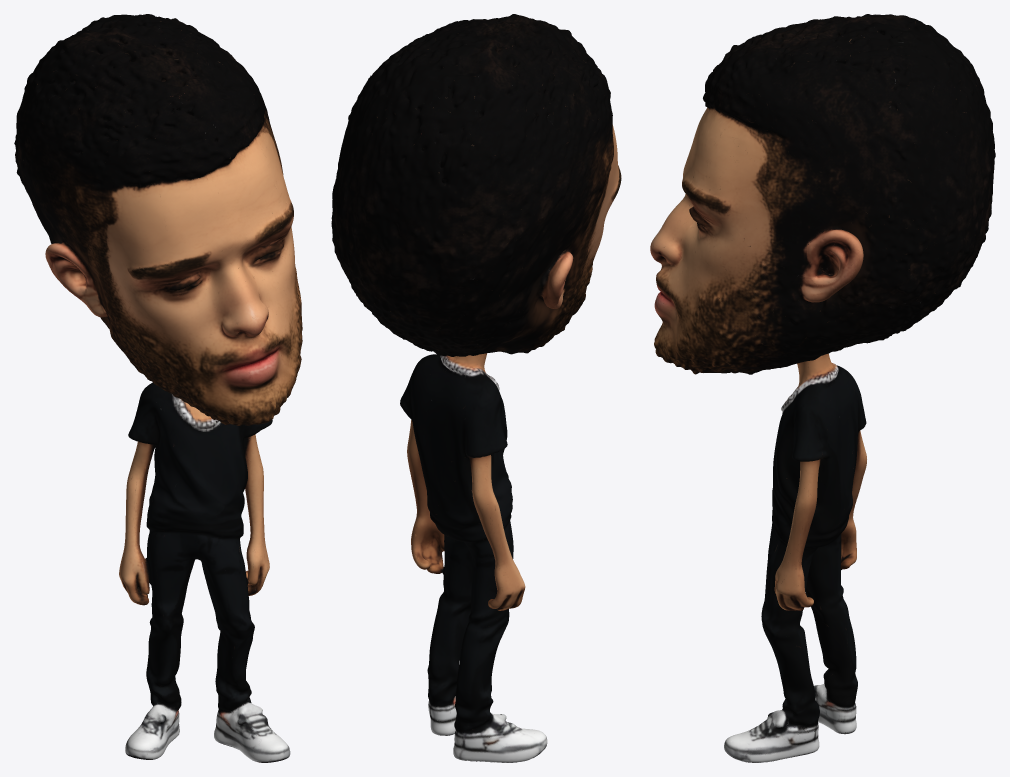
3 renders of one model, left to right at view 1: azimuth 30°, elevation 25°; view 2: azimuth 150°, elevation 25°; view 3: azimuth 270°, elevation 25°, orthographic. The views are drawn at different scales.
Parts seen in each view (by area): view 1: world; view 2: world; view 3: world.
Part boxes in pixels (x1=…): world: x1=14, y1=14, x2=302, y2=762; world: x1=331, y1=14, x2=621, y2=762; world: x1=650, y1=14, x2=995, y2=762.
Size of the model in its own units: 0.3414 by 1 by 0.4491.
Materials: 1 (1 with a texture image).
